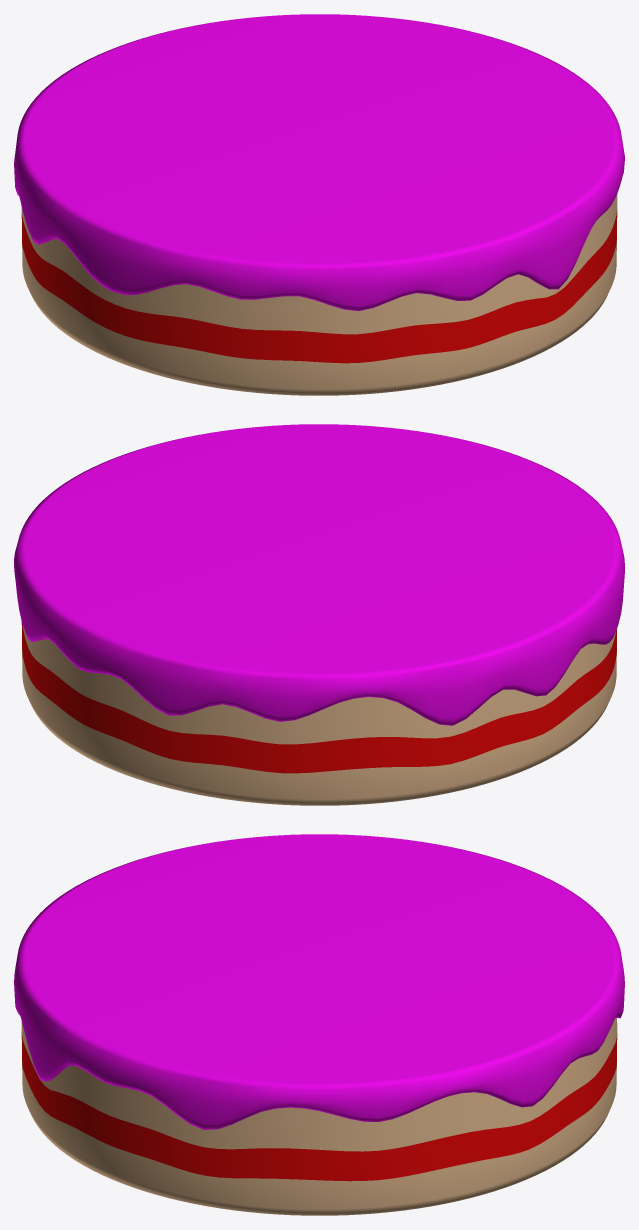
File: SM_CakeGood.fbx
The picture shows the model from 3 angles, top to bottom: view 1: azimuth 30°, elevation 25°; view 2: azimuth 150°, elevation 25°; view 3: azimuth 270°, elevation 25°; orthographic projection.
Visible parts, largest first — view 1: SM_CakeGood; view 2: SM_CakeGood; view 3: SM_CakeGood.
Part boxes in pixels (bbox=[...]): SM_CakeGood: bbox=[14, 14, 624, 395]; SM_CakeGood: bbox=[14, 424, 624, 805]; SM_CakeGood: bbox=[14, 834, 624, 1215].
Size of the model in its own units: 3.06 by 0.7533 by 3.06.
